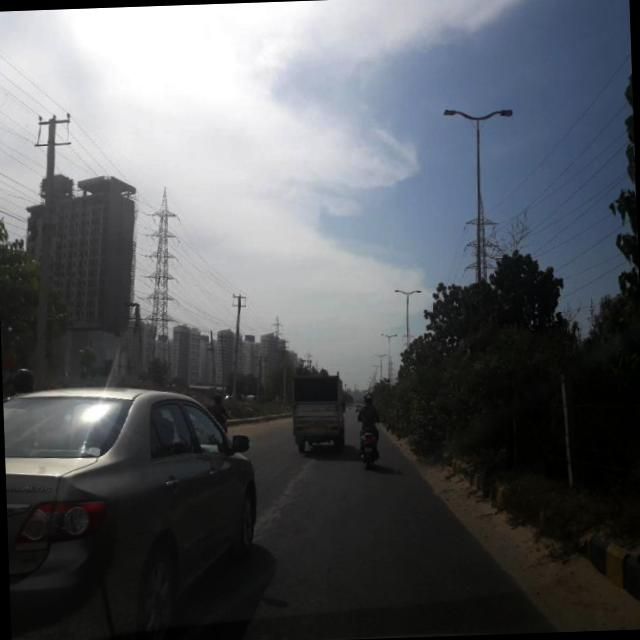crack: (268, 466, 519, 632)
